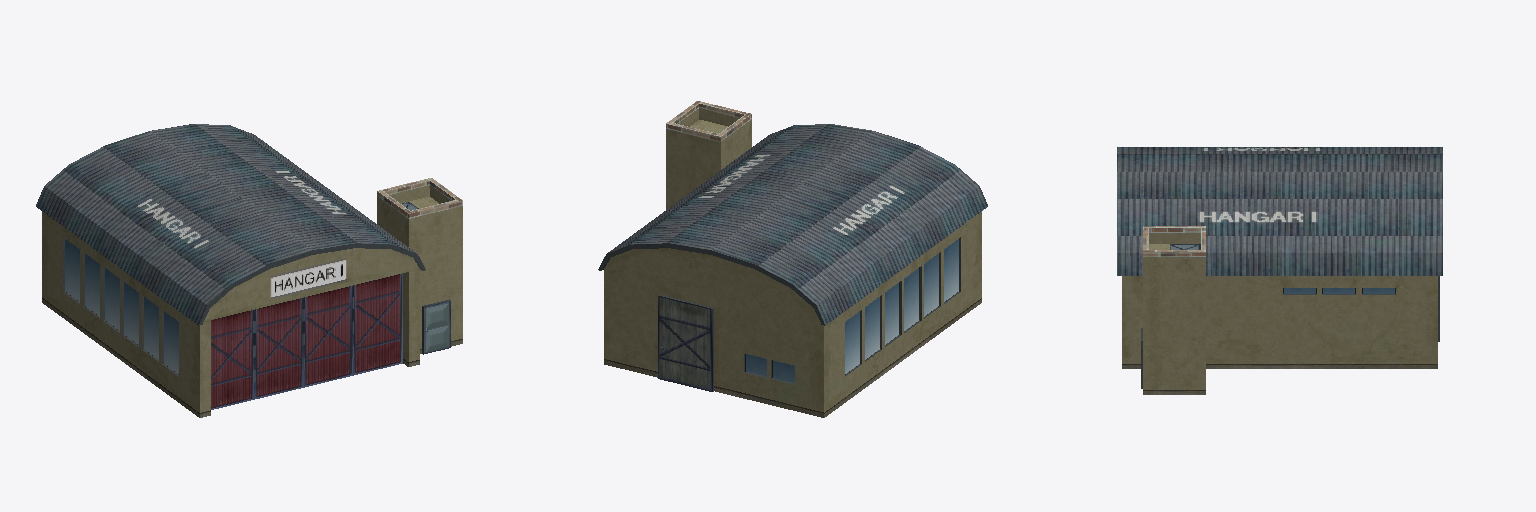
3 renders of one model, left to right at view 1: azimuth 30°, elevation 25°; view 2: azimuth 150°, elevation 25°; view 3: azimuth 270°, elevation 25°, orthographic.
Parts seen in each view (by area): view 1: Default; view 2: Default; view 3: Default.
Boxes of the visible parts, box(x1,y1,x2,y2) form: Default: box(36, 124, 462, 417); Default: box(598, 101, 987, 417); Default: box(1117, 147, 1442, 394).
Size of the model in its own units: 12.79 by 6.29 by 13.
Materials: 1 (1 with a texture image).